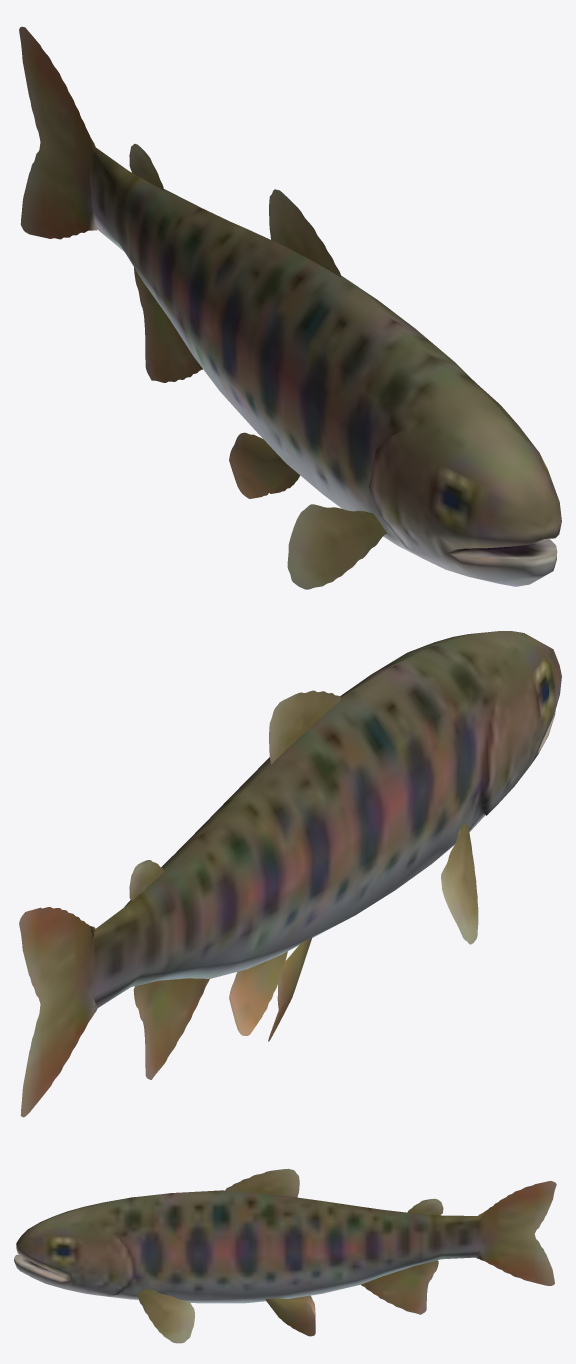
Rendered from cherry-salmon.glb.
The picture shows the model from 3 angles, top to bottom: view 1: azimuth 30°, elevation 25°; view 2: azimuth 150°, elevation 25°; view 3: azimuth 270°, elevation 25°; orthographic projection. The views are drawn at different scales.
Size of the model in its own units: 1.58 by 2.83 by 7.92.
1 material, 1 textured.
